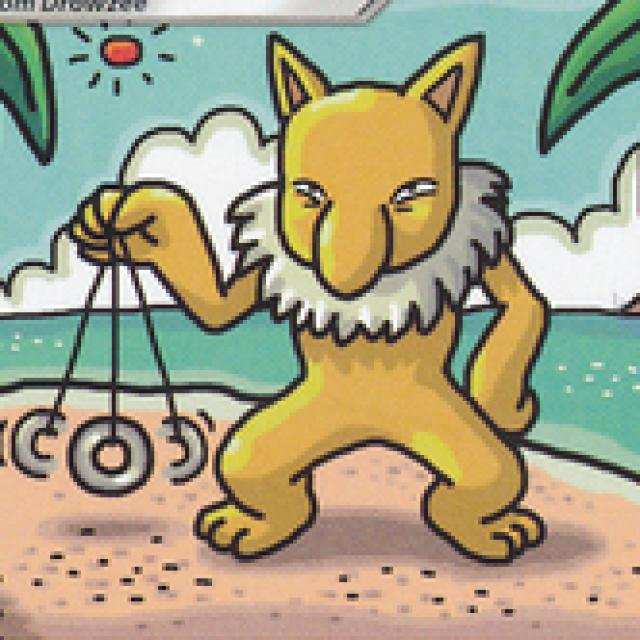Hypno: (52, 71, 548, 562)
